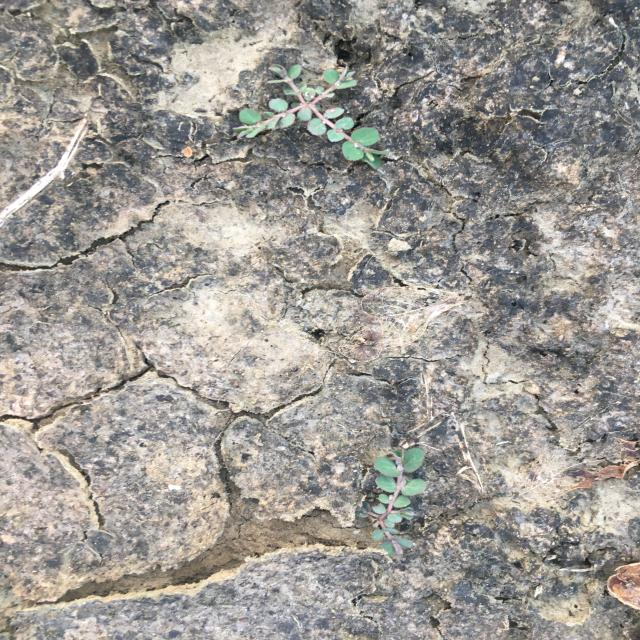SpottedSpurge: (229, 61, 392, 170), (355, 446, 431, 560)
